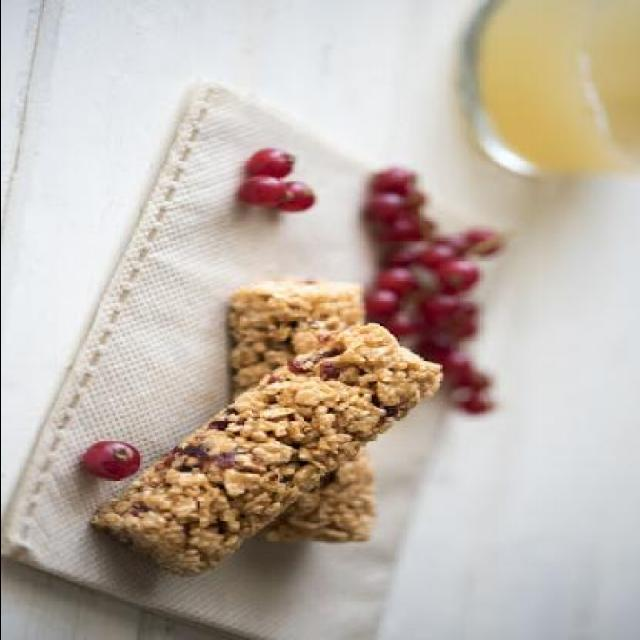Cereal bar packaged: (103, 320, 449, 584)
